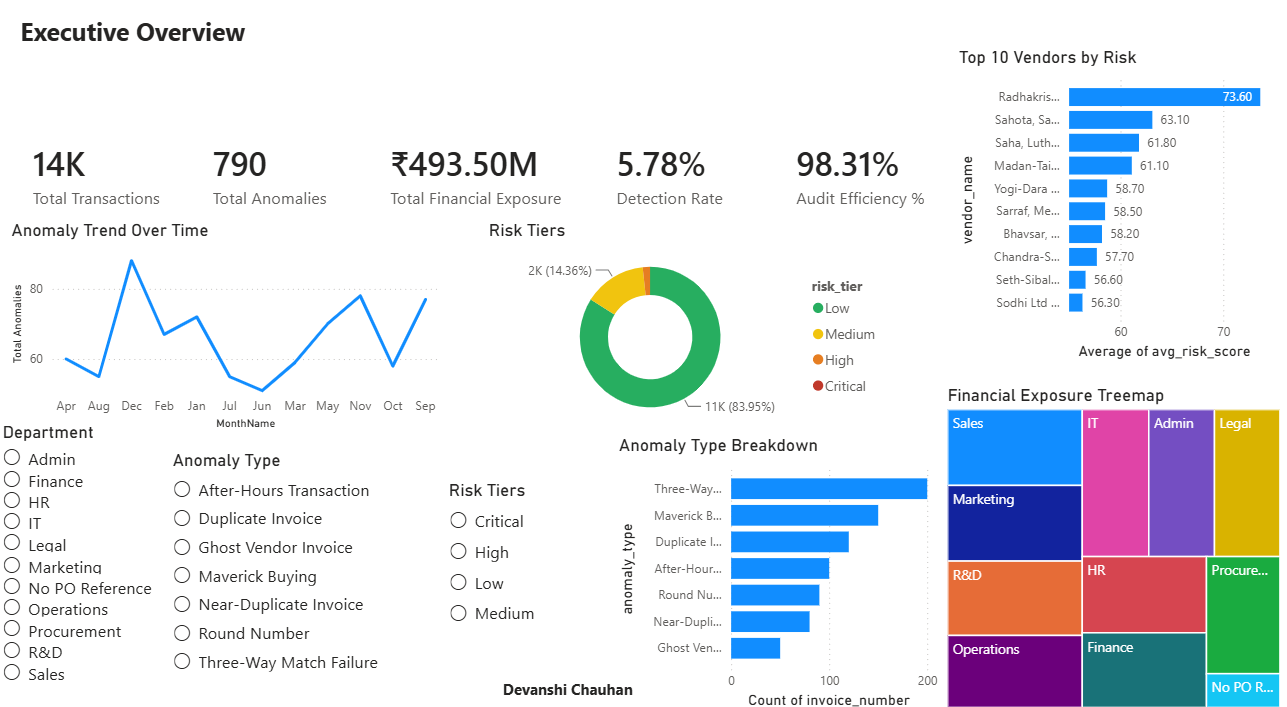

The dashboard page shown, as its layout file describes it:
{"tool":"powerbi","page":{"name":"Executive Overview","canvas":[1280,720],"ordinal":0},"visuals":[{"type":"cardVisual","fields":{"Data":["_Measures.Total Transactions"]},"box":[21,114.4,193.4,141.8],"z":0},{"type":"cardVisual","fields":{"Data":["_Measures.Total Anomalies"]},"box":[196.6,114.4,193.4,141.8],"z":1000},{"type":"cardVisual","fields":{"Data":["_Measures.Total Financial Exposure"]},"box":[370.7,114.4,243.4,141.8],"z":2000},{"type":"cardVisual","fields":{"Data":["_Measures.Detection Rate"]},"box":[591.5,114.4,193.4,141.8],"z":3000},{"type":"cardVisual","fields":{"Data":["_Measures.Audit Efficiency %"]},"box":[755.9,114.4,193.4,141.8],"z":4000},{"type":"donutChart","title":"Risk Tiers","fields":{"Category":["case_management_queue.risk_tier"],"Y":["_Measures.Total Transactions"]},"box":[479.4,229.9,397.4,210.3],"z":5000},{"type":"lineChart","title":"Anomaly Trend Over Time","fields":{"Category":["DateTable.MonthName"],"Y":["_Measures.Total Anomalies"]},"box":[12.2,229.9,428,210.3],"z":6000},{"type":"barChart","title":"Top 10 Vendors by Risk","fields":{"Category":["vendor_risk_summary.vendor_name"],"Y":["Avg(vendor_risk_summary.avg_risk_score)"]},"box":[939.1,59.9,311.8,311.8],"z":7000},{"type":"clusteredBarChart","title":"Anomaly Type Breakdown","fields":{"Category":["powerbi_master_export.anomaly_type"],"Y":["CountNonNull(powerbi_master_export.invoice_number)"]},"box":[606.5,440.2,321.6,272.7],"z":8000},{"type":"treemap","title":"Financial Exposure Treemap","fields":{"Group":["powerbi_master_export.department"],"Values":["Sum(powerbi_master_export.invoice_amount)"]},"box":[928.1,391.3,335.1,321.6],"z":9000},{"type":"listSlicer","title":"Department","fields":{"Values":["powerbi_master_export.department"]},"box":[8.6,426.8,193.2,280],"z":10000},{"type":"listSlicer","title":"Risk Tiers","fields":{"Values":["case_management_queue.risk_tier"]},"box":[440.2,484.2,150.4,166.3],"z":11000},{"type":"listSlicer","title":"Anomaly Type","fields":{"Values":["powerbi_master_export.anomaly_type"]},"box":[170,454.9,247,258],"z":12000},{"type":"textbox","box":[20.8,24.5,242.1,44],"z":13000},{"type":"textbox","box":[492.8,673.8,146.7,33],"z":13001}]}

Visuals, with their boxes in screenshot pixels (x1, y1, x2, y2), scaled from the page's 1280x720 canvas onto the 1287x707 screenshot:
cardVisual - _Measures.Total Transactions: <bbox>21, 112, 216, 252</bbox>
cardVisual - _Measures.Total Anomalies: <bbox>198, 112, 392, 252</bbox>
cardVisual - _Measures.Total Financial Exposure: <bbox>373, 112, 617, 252</bbox>
cardVisual - _Measures.Detection Rate: <bbox>595, 112, 789, 252</bbox>
cardVisual - _Measures.Audit Efficiency %: <bbox>760, 112, 954, 252</bbox>
"Risk Tiers" donutChart: <bbox>482, 226, 882, 432</bbox>
"Anomaly Trend Over Time" lineChart: <bbox>12, 226, 443, 432</bbox>
"Top 10 Vendors by Risk" barChart: <bbox>944, 59, 1258, 365</bbox>
"Anomaly Type Breakdown" clusteredBarChart: <bbox>610, 432, 933, 700</bbox>
"Financial Exposure Treemap" treemap: <bbox>933, 384, 1270, 700</bbox>
"Department" listSlicer: <bbox>9, 419, 203, 694</bbox>
"Risk Tiers" listSlicer: <bbox>443, 475, 594, 639</bbox>
"Anomaly Type" listSlicer: <bbox>171, 447, 419, 700</bbox>
textbox: <bbox>21, 24, 264, 67</bbox>
textbox: <bbox>495, 662, 643, 694</bbox>
